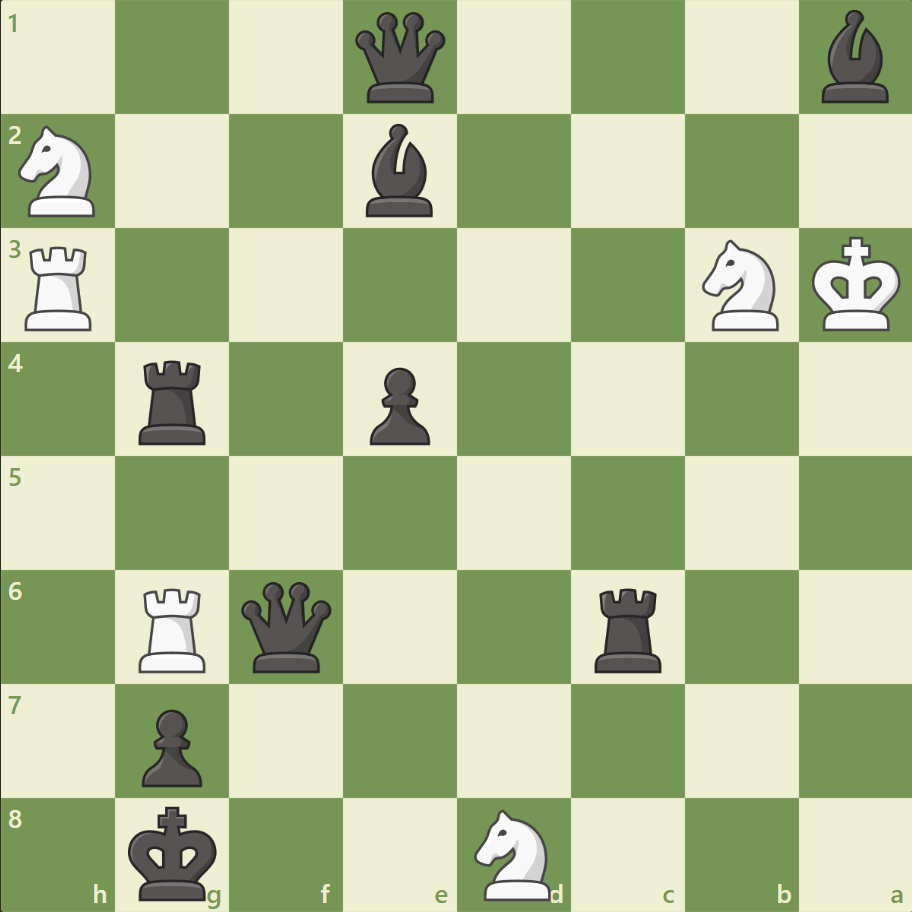K: (806, 231, 906, 339)
N: (692, 234, 789, 337), (465, 802, 562, 904), (11, 121, 108, 223)
R: (19, 239, 102, 336), (133, 579, 215, 676)
b: (812, 6, 896, 109), (358, 120, 442, 222)
k: (124, 798, 224, 906)
p: (133, 700, 208, 791), (361, 359, 435, 450)
q: (237, 576, 336, 676), (351, 9, 450, 108)
r: (587, 579, 670, 676), (133, 352, 215, 449)
